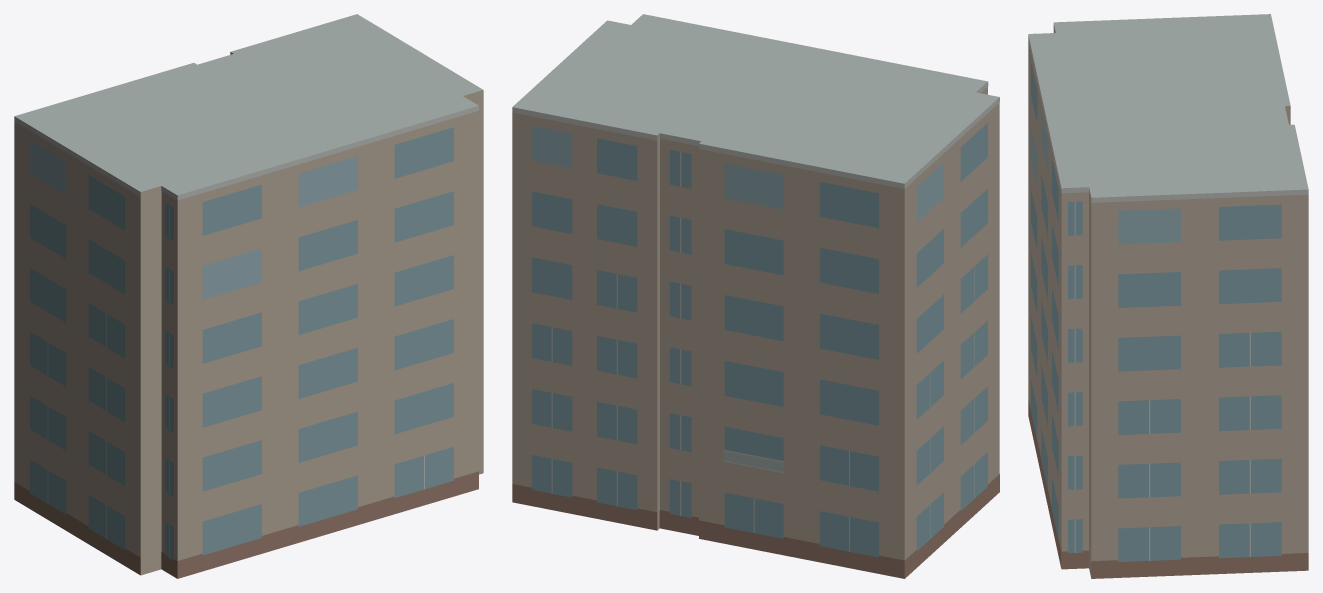
The model's file is survey-upis-32759619.glb.
The picture shows the model from 3 angles, left to right: view 1: azimuth 30°, elevation 25°; view 2: azimuth 150°, elevation 25°; view 3: azimuth 270°, elevation 25°; orthographic projection. The views are drawn at different scales.
Parts seen in each view (by area): view 1: survey-upis-32759619.tmp; view 2: survey-upis-32759619.tmp; view 3: survey-upis-32759619.tmp.
Boxes of the visible parts, x1=… form: survey-upis-32759619.tmp: x1=14, y1=14, x2=483, y2=578; survey-upis-32759619.tmp: x1=512, y1=14, x2=999, y2=578; survey-upis-32759619.tmp: x1=1028, y1=14, x2=1308, y2=578.
Size of the model in its own units: 18.94 by 18.3 by 12.21.
